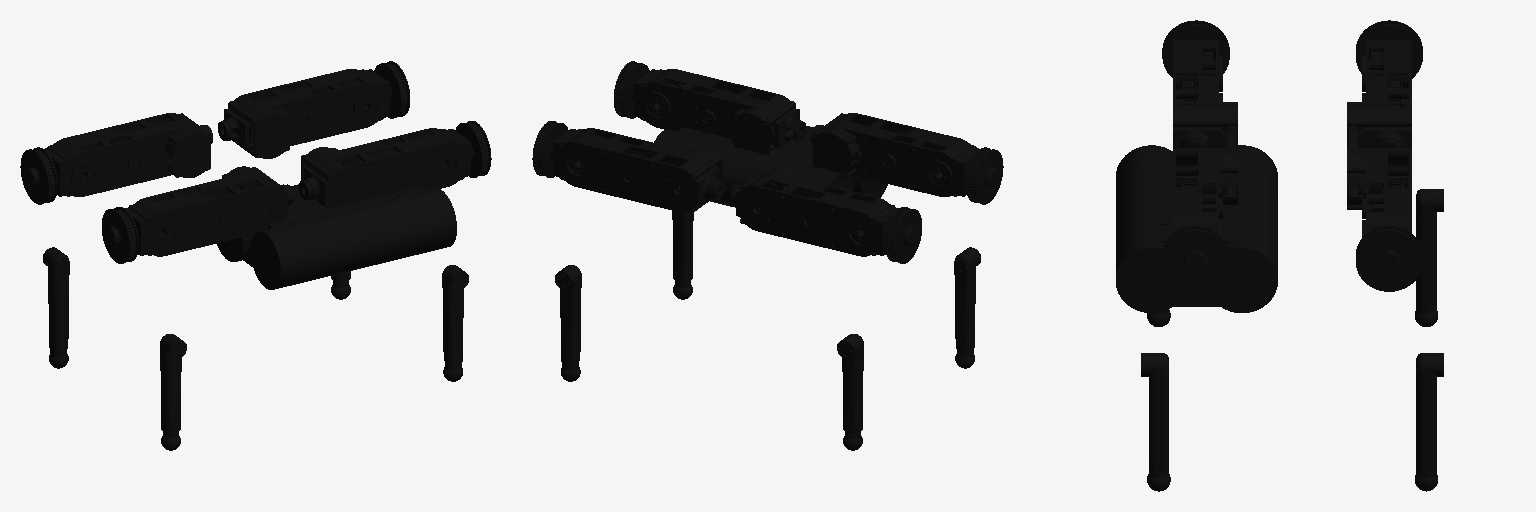
The robot description file, URDF, robot "mistletoe-sim":
<?xml version="1.0" ?>
<!-- =================================================================================== -->
<!-- |    This document was autogenerated by xacro from mistletoe-sim.xacro            | -->
<!-- |    EDITING THIS FILE BY HAND IS NOT RECOMMENDED                                 | -->
<!-- =================================================================================== -->
<robot name="mistletoe-sim">
  <material name="silver_default">
    <color rgba="0.700 0.700 0.700 1.000"/>
  </material>
  <material name="plastic_glossy_black">
    <color rgba="0.09803921568627451 0.09803921568627451 0.09803921568627451 1.0"/>
  </material>
  <transmission name="LEG_1_KFE_tran">
    <type>transmission_interface/SimpleTransmission</type>
    <joint name="LEG_1_KFE">
      <hardwareInterface>hardware_interface/EffortJointInterface</hardwareInterface>
    </joint>
    <actuator name="LEG_1_KFE_actr">
      <hardwareInterface>hardware_interface/EffortJointInterface</hardwareInterface>
      <mechanicalReduction>1</mechanicalReduction>
    </actuator>
  </transmission>
  <transmission name="LEG_1_HFE_tran">
    <type>transmission_interface/SimpleTransmission</type>
    <joint name="LEG_1_HFE">
      <hardwareInterface>hardware_interface/EffortJointInterface</hardwareInterface>
    </joint>
    <actuator name="LEG_1_HFE_actr">
      <hardwareInterface>hardware_interface/EffortJointInterface</hardwareInterface>
      <mechanicalReduction>1</mechanicalReduction>
    </actuator>
  </transmission>
  <transmission name="LEG_1_HAA_tran">
    <type>transmission_interface/SimpleTransmission</type>
    <joint name="LEG_1_HAA">
      <hardwareInterface>hardware_interface/EffortJointInterface</hardwareInterface>
    </joint>
    <actuator name="LEG_1_HAA_actr">
      <hardwareInterface>hardware_interface/EffortJointInterface</hardwareInterface>
      <mechanicalReduction>1</mechanicalReduction>
    </actuator>
  </transmission>
  <transmission name="LEG_2_HAA_tran">
    <type>transmission_interface/SimpleTransmission</type>
    <joint name="LEG_2_HAA">
      <hardwareInterface>hardware_interface/EffortJointInterface</hardwareInterface>
    </joint>
    <actuator name="LEG_2_HAA_actr">
      <hardwareInterface>hardware_interface/EffortJointInterface</hardwareInterface>
      <mechanicalReduction>1</mechanicalReduction>
    </actuator>
  </transmission>
  <transmission name="LEG_2_HFE_tran">
    <type>transmission_interface/SimpleTransmission</type>
    <joint name="LEG_2_HFE">
      <hardwareInterface>hardware_interface/EffortJointInterface</hardwareInterface>
    </joint>
    <actuator name="LEG_2_HFE_actr">
      <hardwareInterface>hardware_interface/EffortJointInterface</hardwareInterface>
      <mechanicalReduction>1</mechanicalReduction>
    </actuator>
  </transmission>
  <transmission name="LEG_2_KFE_tran">
    <type>transmission_interface/SimpleTransmission</type>
    <joint name="LEG_2_KFE">
      <hardwareInterface>hardware_interface/EffortJointInterface</hardwareInterface>
    </joint>
    <actuator name="LEG_2_KFE_actr">
      <hardwareInterface>hardware_interface/EffortJointInterface</hardwareInterface>
      <mechanicalReduction>1</mechanicalReduction>
    </actuator>
  </transmission>
  <transmission name="LEG_3_HAA_tran">
    <type>transmission_interface/SimpleTransmission</type>
    <joint name="LEG_3_HAA">
      <hardwareInterface>hardware_interface/EffortJointInterface</hardwareInterface>
    </joint>
    <actuator name="LEG_3_HAA_actr">
      <hardwareInterface>hardware_interface/EffortJointInterface</hardwareInterface>
      <mechanicalReduction>1</mechanicalReduction>
    </actuator>
  </transmission>
  <transmission name="LEG_4_HAA_tran">
    <type>transmission_interface/SimpleTransmission</type>
    <joint name="LEG_4_HAA">
      <hardwareInterface>hardware_interface/EffortJointInterface</hardwareInterface>
    </joint>
    <actuator name="LEG_4_HAA_actr">
      <hardwareInterface>hardware_interface/EffortJointInterface</hardwareInterface>
      <mechanicalReduction>1</mechanicalReduction>
    </actuator>
  </transmission>
  <transmission name="LEG_3_HFE_tran">
    <type>transmission_interface/SimpleTransmission</type>
    <joint name="LEG_3_HFE">
      <hardwareInterface>hardware_interface/EffortJointInterface</hardwareInterface>
    </joint>
    <actuator name="LEG_3_HFE_actr">
      <hardwareInterface>hardware_interface/EffortJointInterface</hardwareInterface>
      <mechanicalReduction>1</mechanicalReduction>
    </actuator>
  </transmission>
  <transmission name="LEG_4_HFE_tran">
    <type>transmission_interface/SimpleTransmission</type>
    <joint name="LEG_4_HFE">
      <hardwareInterface>hardware_interface/EffortJointInterface</hardwareInterface>
    </joint>
    <actuator name="LEG_4_HFE_actr">
      <hardwareInterface>hardware_interface/EffortJointInterface</hardwareInterface>
      <mechanicalReduction>1</mechanicalReduction>
    </actuator>
  </transmission>
  <transmission name="LEG_3_KFE_tran">
    <type>transmission_interface/SimpleTransmission</type>
    <joint name="LEG_3_KFE">
      <hardwareInterface>hardware_interface/EffortJointInterface</hardwareInterface>
    </joint>
    <actuator name="LEG_3_KFE_actr">
      <hardwareInterface>hardware_interface/EffortJointInterface</hardwareInterface>
      <mechanicalReduction>1</mechanicalReduction>
    </actuator>
  </transmission>
  <transmission name="LEG_4_KFE_tran">
    <type>transmission_interface/SimpleTransmission</type>
    <joint name="LEG_4_KFE">
      <hardwareInterface>hardware_interface/EffortJointInterface</hardwareInterface>
    </joint>
    <actuator name="LEG_4_KFE_actr">
      <hardwareInterface>hardware_interface/EffortJointInterface</hardwareInterface>
      <mechanicalReduction>1</mechanicalReduction>
    </actuator>
  </transmission>
  <link name="base">
    <inertial>
      <origin rpy="0 0 0" xyz="-0.0742111235071501 0.12107196072138687 0.02382596227206724"/>
      <mass value="4.0282061595327185"/>
      <inertia ixx="0.013417" ixy="-0.00018" ixz="0.00116" iyy="0.184869" iyz="1.6e-05" izz="0.19255"/>
    </inertial>
    <visual>
      <origin rpy="0 0 0" xyz="0 0 0"/>
      <geometry>
        <mesh filename="package://mistletoe-sim_description/meshes/base_link.stl" scale="0.001 0.001 0.001"/>
      </geometry>
      <material name="plastic_glossy_black"/>
    </visual>
    <collision>
      <origin rpy="0 0 0" xyz="0 0 0"/>
      <geometry>
        <mesh filename="package://mistletoe-sim_description/meshes/base_link.stl" scale="0.001 0.001 0.001"/>
      </geometry>
    </collision>
  </link>
  <link name="LEG_1_ANKLE">
    <inertial>
      <origin rpy="0 0 0" xyz="-3.940693174275811e-07 0.02214768809098814 -0.06893004017418905"/>
      <mass value="0.0707595437253254"/>
      <inertia ixx="0.000194" ixy="0.0" ixz="-0.0" iyy="0.000193" iyz="5e-06" izz="8e-06"/>
    </inertial>
    <visual>
      <origin rpy="0 0 0" xyz="-0.17787 0.071 0.15087"/>
      <geometry>
        <mesh filename="package://mistletoe-sim_description/meshes/LEG_1_ANKLE_1.stl" scale="0.001 0.001 0.001"/>
      </geometry>
      <material name="plastic_glossy_black"/>
    </visual>
    <collision>
      <origin rpy="0 0 0" xyz="-0.17787 0.071 0.15087"/>
      <geometry>
        <mesh filename="package://mistletoe-sim_description/meshes/LEG_1_ANKLE_1.stl" scale="0.001 0.001 0.001"/>
      </geometry>
    </collision>
  </link>
  <link name="LEG_1_KNEE">
    <inertial>
      <origin rpy="0 0 0" xyz="6.506335524375517e-06 -0.06075650205456666 -0.053095505532471214"/>
      <mass value="0.6687419456686833"/>
      <inertia ixx="0.004059" ixy="-0.0" ixz="-0.0" iyy="0.003897" iyz="-0.000492" izz="0.000581"/>
    </inertial>
    <visual>
      <origin rpy="0 0 0" xyz="-0.17787 0.026 -0.025"/>
      <geometry>
        <mesh filename="package://mistletoe-sim_description/meshes/LEG_1_KNEE_1.stl" scale="0.001 0.001 0.001"/>
      </geometry>
      <material name="plastic_glossy_black"/>
    </visual>
    <collision>
      <origin rpy="0 0 0" xyz="-0.17787 0.026 -0.025"/>
      <geometry>
        <mesh filename="package://mistletoe-sim_description/meshes/LEG_1_KNEE_1.stl" scale="0.001 0.001 0.001"/>
      </geometry>
    </collision>
  </link>
  <link name="LEG_1_HIP">
    <inertial>
      <origin rpy="0 0 0" xyz="-0.1675167715088861 0.008238257074781409 -5.1741353007672686e-09"/>
      <mass value="0.5600707780907046"/>
      <inertia ixx="0.000428" ixy="0.000319" ixz="-0.0" iyy="0.004847" iyz="-0.0" izz="0.004917"/>
    </inertial>
    <visual>
      <origin rpy="0 0 0" xyz="-0.255776 0.001 -0.025"/>
      <geometry>
        <mesh filename="package://mistletoe-sim_description/meshes/LEG_1_HIP_1.stl" scale="0.001 0.001 0.001"/>
      </geometry>
      <material name="plastic_glossy_black"/>
    </visual>
    <collision>
      <origin rpy="0 0 0" xyz="-0.255776 0.001 -0.025"/>
      <geometry>
        <mesh filename="package://mistletoe-sim_description/meshes/LEG_1_HIP_1.stl" scale="0.001 0.001 0.001"/>
      </geometry>
    </collision>
  </link>
  <link name="LEG_2_HIP">
    <inertial>
      <origin rpy="0 0 0" xyz="-0.1675167715088861 -0.008238257074783623 5.174126550822056e-09"/>
      <mass value="0.5600707780907046"/>
      <inertia ixx="0.000428" ixy="-0.000319" ixz="0.0" iyy="0.004847" iyz="-0.0" izz="0.004917"/>
    </inertial>
    <visual>
      <origin rpy="0 0 0" xyz="-0.255776 -0.242608 -0.025"/>
      <geometry>
        <mesh filename="package://mistletoe-sim_description/meshes/LEG_2_HIP_1.stl" scale="0.001 0.001 0.001"/>
      </geometry>
      <material name="plastic_glossy_black"/>
    </visual>
    <collision>
      <origin rpy="0 0 0" xyz="-0.255776 -0.242608 -0.025"/>
      <geometry>
        <mesh filename="package://mistletoe-sim_description/meshes/LEG_2_HIP_1.stl" scale="0.001 0.001 0.001"/>
      </geometry>
    </collision>
  </link>
  <link name="LEG_2_KNEE">
    <inertial>
      <origin rpy="0 0 0" xyz="-7.306335524759344e-06 0.06075650205456229 -0.05309550553247526"/>
      <mass value="0.6687419456686833"/>
      <inertia ixx="0.004059" ixy="-0.0" ixz="0.0" iyy="0.003897" iyz="0.000492" izz="0.000581"/>
    </inertial>
    <visual>
      <origin rpy="0 0 0" xyz="-0.17787 -0.267608 -0.025"/>
      <geometry>
        <mesh filename="package://mistletoe-sim_description/meshes/LEG_2_KNEE_1.stl" scale="0.001 0.001 0.001"/>
      </geometry>
      <material name="plastic_glossy_black"/>
    </visual>
    <collision>
      <origin rpy="0 0 0" xyz="-0.17787 -0.267608 -0.025"/>
      <geometry>
        <mesh filename="package://mistletoe-sim_description/meshes/LEG_2_KNEE_1.stl" scale="0.001 0.001 0.001"/>
      </geometry>
    </collision>
  </link>
  <link name="LEG_2_ANKLE">
    <inertial>
      <origin rpy="0 0 0" xyz="-4.0593068142968924e-07 -0.02214768809099732 -0.06893004017419127"/>
      <mass value="0.0707595437253254"/>
      <inertia ixx="0.000194" ixy="0.0" ixz="0.0" iyy="0.000193" iyz="-5e-06" izz="8e-06"/>
    </inertial>
    <visual>
      <origin rpy="0 0 0" xyz="-0.17787 -0.312608 0.15087"/>
      <geometry>
        <mesh filename="package://mistletoe-sim_description/meshes/LEG_2_ANKLE_1.stl" scale="0.001 0.001 0.001"/>
      </geometry>
      <material name="plastic_glossy_black"/>
    </visual>
    <collision>
      <origin rpy="0 0 0" xyz="-0.17787 -0.312608 0.15087"/>
      <geometry>
        <mesh filename="package://mistletoe-sim_description/meshes/LEG_2_ANKLE_1.stl" scale="0.001 0.001 0.001"/>
      </geometry>
    </collision>
  </link>
  <link name="LEG_3_HIP">
    <inertial>
      <origin rpy="0 0 0" xyz="0.16751677150888714 0.00823825707478041 5.174135415259018e-09"/>
      <mass value="0.5600707780907046"/>
      <inertia ixx="0.000428" ixy="-0.000319" ixz="-0.0" iyy="0.004847" iyz="0.0" izz="0.004917"/>
    </inertial>
    <visual>
      <origin rpy="0 0 0" xyz="0.389589 0.001 -0.025"/>
      <geometry>
        <mesh filename="package://mistletoe-sim_description/meshes/LEG_3_HIP_1.stl" scale="0.001 0.001 0.001"/>
      </geometry>
      <material name="plastic_glossy_black"/>
    </visual>
    <collision>
      <origin rpy="0 0 0" xyz="0.389589 0.001 -0.025"/>
      <geometry>
        <mesh filename="package://mistletoe-sim_description/meshes/LEG_3_HIP_1.stl" scale="0.001 0.001 0.001"/>
      </geometry>
    </collision>
  </link>
  <link name="LEG_4_HIP">
    <inertial>
      <origin rpy="0 0 0" xyz="0.16751677150888733 -0.008238257074784622 -5.174131970098195e-09"/>
      <mass value="0.5600707780907046"/>
      <inertia ixx="0.000428" ixy="0.000319" ixz="0.0" iyy="0.004847" iyz="0.0" izz="0.004917"/>
    </inertial>
    <visual>
      <origin rpy="0 0 0" xyz="0.389589 -0.242608 -0.025"/>
      <geometry>
        <mesh filename="package://mistletoe-sim_description/meshes/LEG_4_HIP_1.stl" scale="0.001 0.001 0.001"/>
      </geometry>
      <material name="plastic_glossy_black"/>
    </visual>
    <collision>
      <origin rpy="0 0 0" xyz="0.389589 -0.242608 -0.025"/>
      <geometry>
        <mesh filename="package://mistletoe-sim_description/meshes/LEG_4_HIP_1.stl" scale="0.001 0.001 0.001"/>
      </geometry>
    </collision>
  </link>
  <link name="LEG_3_KNEE">
    <inertial>
      <origin rpy="0 0 0" xyz="7.306335524315255e-06 -0.060756502054566924 -0.05309550553247254"/>
      <mass value="0.6687419456686833"/>
      <inertia ixx="0.004059" ixy="-0.0" ixz="-0.0" iyy="0.003897" iyz="-0.000492" izz="0.000581"/>
    </inertial>
    <visual>
      <origin rpy="0 0 0" xyz="0.311683 0.026 -0.025"/>
      <geometry>
        <mesh filename="package://mistletoe-sim_description/meshes/LEG_3_KNEE_1.stl" scale="0.001 0.001 0.001"/>
      </geometry>
      <material name="plastic_glossy_black"/>
    </visual>
    <collision>
      <origin rpy="0 0 0" xyz="0.311683 0.026 -0.025"/>
      <geometry>
        <mesh filename="package://mistletoe-sim_description/meshes/LEG_3_KNEE_1.stl" scale="0.001 0.001 0.001"/>
      </geometry>
    </collision>
  </link>
  <link name="LEG_4_KNEE">
    <inertial>
      <origin rpy="0 0 0" xyz="-6.50633552473634e-06 0.06075650205456207 -0.05309550553247643"/>
      <mass value="0.6687419456686833"/>
      <inertia ixx="0.004059" ixy="-0.0" ixz="0.0" iyy="0.003897" iyz="0.000492" izz="0.000581"/>
    </inertial>
    <visual>
      <origin rpy="0 0 0" xyz="0.311683 -0.267608 -0.025"/>
      <geometry>
        <mesh filename="package://mistletoe-sim_description/meshes/LEG_4_KNEE_1.stl" scale="0.001 0.001 0.001"/>
      </geometry>
      <material name="plastic_glossy_black"/>
    </visual>
    <collision>
      <origin rpy="0 0 0" xyz="0.311683 -0.267608 -0.025"/>
      <geometry>
        <mesh filename="package://mistletoe-sim_description/meshes/LEG_4_KNEE_1.stl" scale="0.001 0.001 0.001"/>
      </geometry>
    </collision>
  </link>
  <link name="LEG_3_ANKLE">
    <inertial>
      <origin rpy="0 0 0" xyz="4.059306822901121e-07 0.022147688090987667 -0.06893004017418985"/>
      <mass value="0.0707595437253254"/>
      <inertia ixx="0.000194" ixy="0.0" ixz="-0.0" iyy="0.000193" iyz="5e-06" izz="8e-06"/>
    </inertial>
    <visual>
      <origin rpy="0 0 0" xyz="0.311683 0.071 0.15087"/>
      <geometry>
        <mesh filename="package://mistletoe-sim_description/meshes/LEG_3_ANKLE_1.stl" scale="0.001 0.001 0.001"/>
      </geometry>
      <material name="plastic_glossy_black"/>
    </visual>
    <collision>
      <origin rpy="0 0 0" xyz="0.311683 0.071 0.15087"/>
      <geometry>
        <mesh filename="package://mistletoe-sim_description/meshes/LEG_3_ANKLE_1.stl" scale="0.001 0.001 0.001"/>
      </geometry>
    </collision>
  </link>
  <link name="LEG_4_ANKLE">
    <inertial>
      <origin rpy="0 0 0" xyz="3.9406931612306906e-07 -0.02214768809099793 -0.06893004017419307"/>
      <mass value="0.0707595437253254"/>
      <inertia ixx="0.000194" ixy="0.0" ixz="0.0" iyy="0.000193" iyz="-5e-06" izz="8e-06"/>
    </inertial>
    <visual>
      <origin rpy="0 0 0" xyz="0.311683 -0.312608 0.15087"/>
      <geometry>
        <mesh filename="package://mistletoe-sim_description/meshes/LEG_4_ANKLE_1.stl" scale="0.001 0.001 0.001"/>
      </geometry>
      <material name="plastic_glossy_black"/>
    </visual>
    <collision>
      <origin rpy="0 0 0" xyz="0.311683 -0.312608 0.15087"/>
      <geometry>
        <mesh filename="package://mistletoe-sim_description/meshes/LEG_4_ANKLE_1.stl" scale="0.001 0.001 0.001"/>
      </geometry>
    </collision>
  </link>
  <link name="LEG_4_FOOT">
    <inertial>
      <origin rpy="0 0 0" xyz="3.9999999867923464e-07 -2.609024107869118e-15 3.999999908521623e-07"/>
      <mass value="0.009189158511750147"/>
      <inertia ixx="1e-06" ixy="-0.0" ixz="-0.0" iyy="1e-06" iyz="0.0" izz="1e-06"/>
    </inertial>
    <visual>
      <origin rpy="0 0 0" xyz="0.311683 -0.289408 0.310722"/>
      <geometry>
        <mesh filename="package://mistletoe-sim_description/meshes/LEG_4_FOOT_1.stl" scale="0.001 0.001 0.001"/>
      </geometry>
      <material name="plastic_glossy_black"/>
    </visual>
    <collision>
      <origin rpy="0 0 0" xyz="0.311683 -0.289408 0.310722"/>
      <geometry>
        <mesh filename="package://mistletoe-sim_description/meshes/LEG_4_FOOT_1.stl" scale="0.001 0.001 0.001"/>
      </geometry>
    </collision>
  </link>
  <link name="LEG_3_FOOT">
    <inertial>
      <origin rpy="0 0 0" xyz="3.9999999978945766e-07 -9.429956815409923e-15 3.9999999390527563e-07"/>
      <mass value="0.009189158511750147"/>
      <inertia ixx="1e-06" ixy="-0.0" ixz="-0.0" iyy="1e-06" iyz="0.0" izz="1e-06"/>
    </inertial>
    <visual>
      <origin rpy="0 0 0" xyz="0.311683 0.0478 0.310722"/>
      <geometry>
        <mesh filename="package://mistletoe-sim_description/meshes/LEG_3_FOOT_1.stl" scale="0.001 0.001 0.001"/>
      </geometry>
      <material name="plastic_glossy_black"/>
    </visual>
    <collision>
      <origin rpy="0 0 0" xyz="0.311683 0.0478 0.310722"/>
      <geometry>
        <mesh filename="package://mistletoe-sim_description/meshes/LEG_3_FOOT_1.stl" scale="0.001 0.001 0.001"/>
      </geometry>
    </collision>
  </link>
  <link name="LEG_1_FOOT">
    <inertial>
      <origin rpy="0 0 0" xyz="-3.9999999992823554e-07 -9.18709552877317e-15 3.999999956261213e-07"/>
      <mass value="0.009189158511750147"/>
      <inertia ixx="1e-06" ixy="-0.0" ixz="0.0" iyy="1e-06" iyz="0.0" izz="1e-06"/>
    </inertial>
    <visual>
      <origin rpy="0 0 0" xyz="-0.17787 0.0478 0.310722"/>
      <geometry>
        <mesh filename="package://mistletoe-sim_description/meshes/LEG_1_FOOT_1.stl" scale="0.001 0.001 0.001"/>
      </geometry>
      <material name="plastic_glossy_black"/>
    </visual>
    <collision>
      <origin rpy="0 0 0" xyz="-0.17787 0.0478 0.310722"/>
      <geometry>
        <mesh filename="package://mistletoe-sim_description/meshes/LEG_1_FOOT_1.stl" scale="0.001 0.001 0.001"/>
      </geometry>
    </collision>
  </link>
  <link name="LEG_2_FOOT">
    <inertial>
      <origin rpy="0 0 0" xyz="-3.99999998262901e-07 -2.275957200481571e-15 3.9999999273954145e-07"/>
      <mass value="0.009189158511750147"/>
      <inertia ixx="1e-06" ixy="-0.0" ixz="0.0" iyy="1e-06" iyz="0.0" izz="1e-06"/>
    </inertial>
    <visual>
      <origin rpy="0 0 0" xyz="-0.17787 -0.289408 0.310722"/>
      <geometry>
        <mesh filename="package://mistletoe-sim_description/meshes/LEG_2_FOOT_1.stl" scale="0.001 0.001 0.001"/>
      </geometry>
      <material name="plastic_glossy_black"/>
    </visual>
    <collision>
      <origin rpy="0 0 0" xyz="-0.17787 -0.289408 0.310722"/>
      <geometry>
        <mesh filename="package://mistletoe-sim_description/meshes/LEG_2_FOOT_1.stl" scale="0.001 0.001 0.001"/>
      </geometry>
    </collision>
  </link>
  <joint name="LEG_1_KFE" type="continuous">
    <origin rpy="0 0 0" xyz="0.0 -0.045 -0.17587"/>
    <parent link="LEG_1_KNEE"/>
    <child link="LEG_1_ANKLE"/>
    <axis xyz="-0.0 -1.0 0.0"/>
  </joint>
  <joint name="LEG_1_HFE" type="continuous">
    <origin rpy="0 0 0" xyz="-0.077906 -0.025 0.0"/>
    <parent link="LEG_1_HIP"/>
    <child link="LEG_1_KNEE"/>
    <axis xyz="0.0 1.0 -0.0"/>
  </joint>
  <joint name="LEG_1_HAA" type="continuous">
    <origin rpy="0 0 0" xyz="0.255776 -0.001 0.025"/>
    <parent link="base"/>
    <child link="LEG_1_HIP"/>
    <axis xyz="-1.0 0.0 0.0"/>
  </joint>
  <joint name="LEG_2_HAA" type="continuous">
    <origin rpy="0 0 0" xyz="0.255776 0.242608 0.025"/>
    <parent link="base"/>
    <child link="LEG_2_HIP"/>
    <axis xyz="1.0 0.0 -0.0"/>
  </joint>
  <joint name="LEG_2_HFE" type="continuous">
    <origin rpy="0 0 0" xyz="-0.077906 0.025 0.0"/>
    <parent link="LEG_2_HIP"/>
    <child link="LEG_2_KNEE"/>
    <axis xyz="0.0 -1.0 0.0"/>
  </joint>
  <joint name="LEG_2_KFE" type="continuous">
    <origin rpy="0 0 0" xyz="0.0 0.045 -0.17587"/>
    <parent link="LEG_2_KNEE"/>
    <child link="LEG_2_ANKLE"/>
    <axis xyz="-0.0 1.0 -0.0"/>
  </joint>
  <joint name="LEG_3_HAA" type="continuous">
    <origin rpy="0 0 0" xyz="-0.389589 -0.001 0.025"/>
    <parent link="base"/>
    <child link="LEG_3_HIP"/>
    <axis xyz="1.0 0.0 -0.0"/>
  </joint>
  <joint name="LEG_4_HAA" type="continuous">
    <origin rpy="0 0 0" xyz="-0.389589 0.242608 0.025"/>
    <parent link="base"/>
    <child link="LEG_4_HIP"/>
    <axis xyz="1.0 0.0 -0.0"/>
  </joint>
  <joint name="LEG_3_HFE" type="continuous">
    <origin rpy="0 0 0" xyz="0.077906 -0.025 0.0"/>
    <parent link="LEG_3_HIP"/>
    <child link="LEG_3_KNEE"/>
    <axis xyz="-0.0 1.0 -0.0"/>
  </joint>
  <joint name="LEG_4_HFE" type="continuous">
    <origin rpy="0 0 0" xyz="0.077906 0.025 0.0"/>
    <parent link="LEG_4_HIP"/>
    <child link="LEG_4_KNEE"/>
    <axis xyz="-0.0 -1.0 0.0"/>
  </joint>
  <joint name="LEG_3_KFE" type="continuous">
    <origin rpy="0 0 0" xyz="0.0 -0.045 -0.17587"/>
    <parent link="LEG_3_KNEE"/>
    <child link="LEG_3_ANKLE"/>
    <axis xyz="0.0 -1.0 0.0"/>
  </joint>
  <joint name="LEG_4_KFE" type="continuous">
    <origin rpy="0 0 0" xyz="0.0 0.045 -0.17587"/>
    <parent link="LEG_4_KNEE"/>
    <child link="LEG_4_ANKLE"/>
    <axis xyz="0.0 1.0 -0.0"/>
  </joint>
  <joint name="Rigid 33" type="fixed">
    <origin rpy="0 0 0" xyz="0.0 -0.0232 -0.159852"/>
    <parent link="LEG_4_ANKLE"/>
    <child link="LEG_4_FOOT"/>
  </joint>
  <joint name="Rigid 34" type="fixed">
    <origin rpy="0 0 0" xyz="0.0 0.0232 -0.159852"/>
    <parent link="LEG_3_ANKLE"/>
    <child link="LEG_3_FOOT"/>
  </joint>
  <joint name="Rigid 35" type="fixed">
    <origin rpy="0 0 0" xyz="0.0 0.0232 -0.159852"/>
    <parent link="LEG_1_ANKLE"/>
    <child link="LEG_1_FOOT"/>
  </joint>
  <joint name="Rigid 36" type="fixed">
    <origin rpy="0 0 0" xyz="0.0 -0.0232 -0.159852"/>
    <parent link="LEG_2_ANKLE"/>
    <child link="LEG_2_FOOT"/>
  </joint>
</robot>

--- What the picture shows (computed from the rendered views, not written in the file) ---
Views: 3 orthographic renders of the robot side by side, from view 1: azimuth 30°, elevation 25°; view 2: azimuth 150°, elevation 25°; view 3: azimuth 270°, elevation 25°.
Robot: mistletoe-sim — 17 links, 16 joints (12 continuous, 4 fixed); root link base; default pose: every joint at zero.
Visible links, largest first — view 1: base, LEG_4_HIP, LEG_2_HIP, LEG_3_HIP, LEG_1_HIP, LEG_4_ANKLE, LEG_3_ANKLE, LEG_1_ANKLE; view 2: LEG_2_HIP, LEG_3_HIP, LEG_4_HIP, LEG_1_HIP, base, LEG_3_ANKLE, LEG_4_ANKLE, LEG_2_ANKLE, LEG_1_ANKLE; view 3: base, LEG_2_HIP, LEG_1_HIP, LEG_3_HIP, LEG_4_HIP, LEG_2_ANKLE, LEG_1_ANKLE, LEG_4_ANKLE.
Boxes of the visible links, x1=… form: base: x1=217, y1=184, x2=456, y2=289; LEG_4_HIP: x1=20, y1=113, x2=212, y2=204; LEG_2_HIP: x1=218, y1=61, x2=409, y2=158; LEG_3_HIP: x1=102, y1=166, x2=293, y2=263; LEG_1_HIP: x1=299, y1=121, x2=491, y2=208; LEG_4_ANKLE: x1=43, y1=247, x2=69, y2=356; LEG_3_ANKLE: x1=160, y1=334, x2=186, y2=438; LEG_1_ANKLE: x1=442, y1=265, x2=468, y2=370; LEG_2_HIP: x1=532, y1=121, x2=724, y2=212; LEG_3_HIP: x1=811, y1=113, x2=1003, y2=204; LEG_4_HIP: x1=730, y1=166, x2=921, y2=263; LEG_1_HIP: x1=614, y1=61, x2=805, y2=155; base: x1=654, y1=121, x2=887, y2=207; LEG_3_ANKLE: x1=954, y1=247, x2=980, y2=356; LEG_4_ANKLE: x1=837, y1=334, x2=863, y2=438; LEG_2_ANKLE: x1=555, y1=265, x2=581, y2=370; LEG_1_ANKLE: x1=672, y1=211, x2=693, y2=287; base: x1=1116, y1=145, x2=1277, y2=312; LEG_2_HIP: x1=1347, y1=148, x2=1422, y2=291; LEG_1_HIP: x1=1162, y1=148, x2=1237, y2=291; LEG_3_HIP: x1=1162, y1=20, x2=1237, y2=147; LEG_4_HIP: x1=1347, y1=20, x2=1422, y2=147; LEG_2_ANKLE: x1=1416, y1=353, x2=1443, y2=477; LEG_1_ANKLE: x1=1141, y1=353, x2=1168, y2=477; LEG_4_ANKLE: x1=1416, y1=189, x2=1443, y2=313.
Size in the robot's own frame: 0.6454 by 0.4146 by 0.3932 metres.
13 mesh visuals loaded from 17 distinct referenced files (13 binary STL); not drawn: 4 (reference not matched to a file when rendering).
